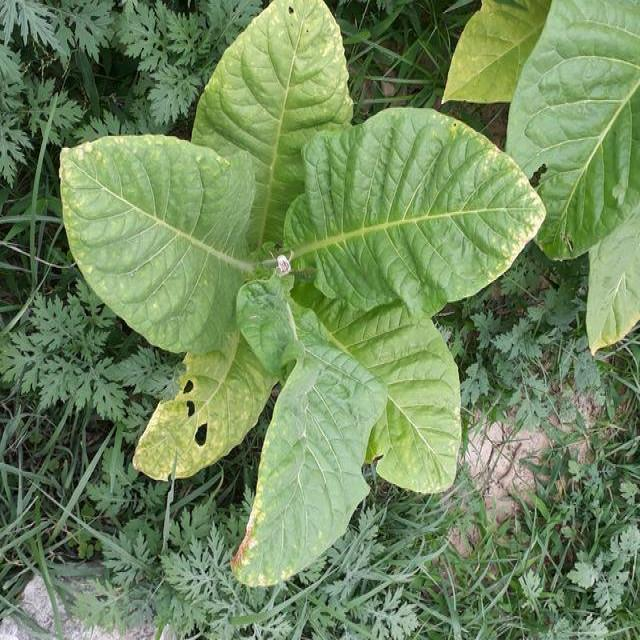crop: (76, 0, 538, 575), (448, 0, 639, 337)
